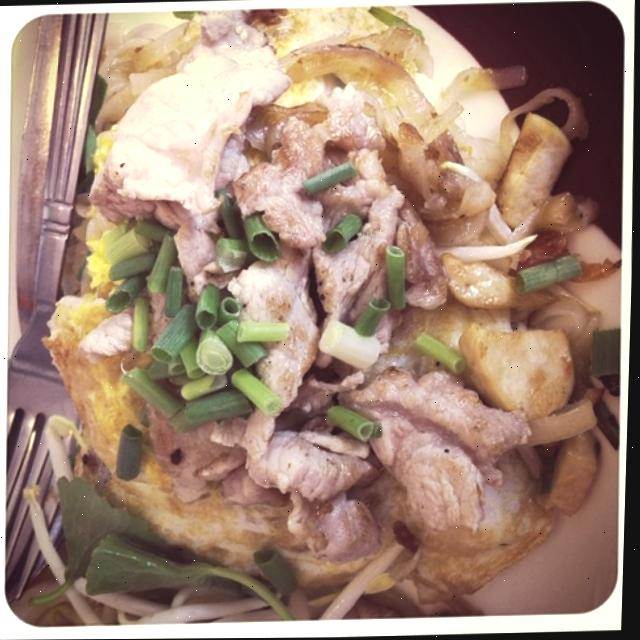炸货点心: (14, 17, 619, 603)
蛋糕甜品: (14, 17, 619, 603)
